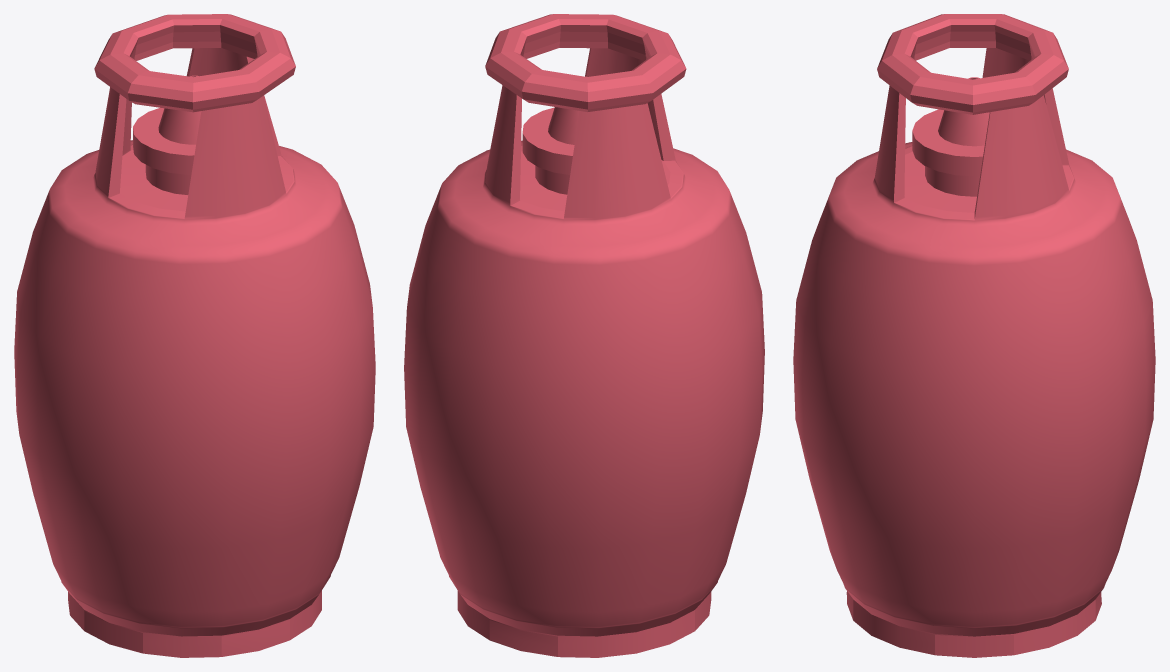
Rendered from Gas Cylinder FBX 1.fbx.
3 renders of one model, left to right at view 1: azimuth 30°, elevation 25°; view 2: azimuth 150°, elevation 25°; view 3: azimuth 270°, elevation 25°, orthographic.
Visible parts, largest first — view 1: polySurface4; view 2: polySurface4; view 3: polySurface4.
Boxes of the visible parts, x1=… form: polySurface4: x1=14, y1=14, x2=375, y2=657; polySurface4: x1=404, y1=14, x2=764, y2=657; polySurface4: x1=793, y1=14, x2=1155, y2=657.
Bounding box in the file's own units: 2.94 × 4.99 × 2.94.
